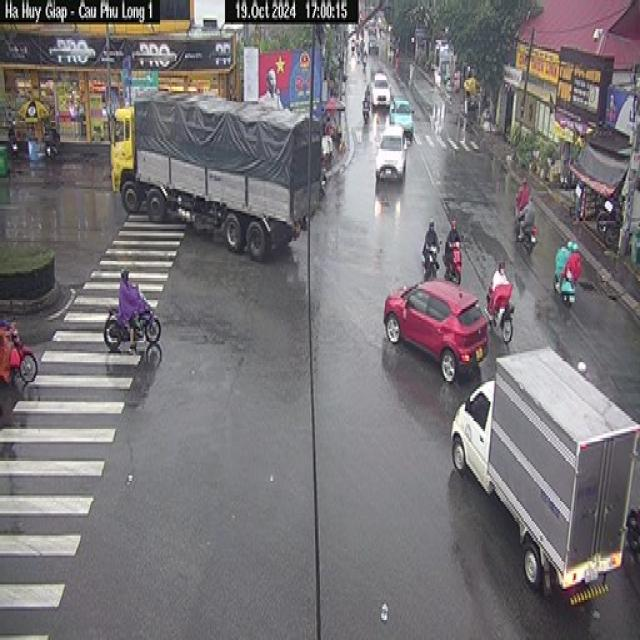car: (380, 269, 491, 388), (376, 125, 412, 197), (389, 96, 418, 130), (373, 72, 390, 109)
motorcycle: (99, 301, 163, 349), (8, 327, 41, 384), (486, 283, 516, 341), (556, 255, 578, 308), (514, 215, 542, 255), (444, 235, 464, 278), (417, 239, 439, 270), (513, 191, 524, 213)
person: (114, 264, 133, 297), (422, 218, 437, 249), (520, 173, 532, 205), (493, 262, 508, 286), (524, 199, 538, 223), (448, 212, 458, 244), (567, 231, 575, 260)
truck: (450, 353, 635, 608), (98, 92, 324, 249)
